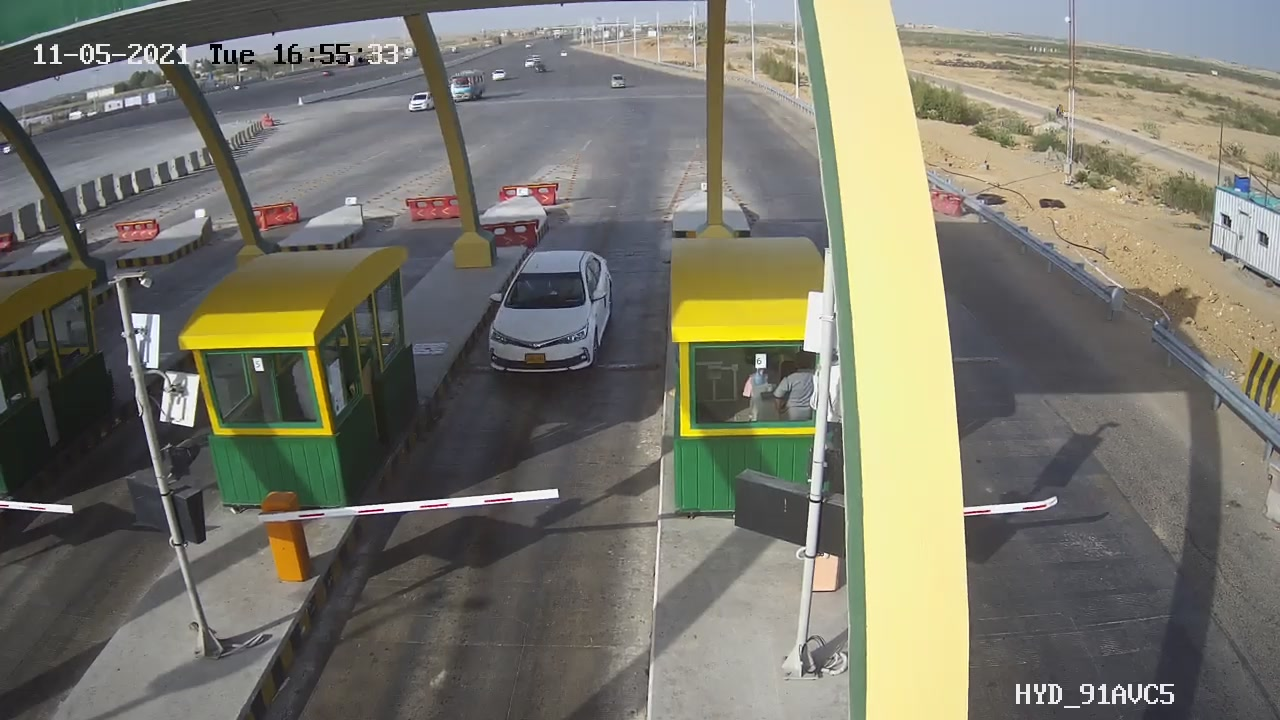F1: (463, 236, 632, 398)
